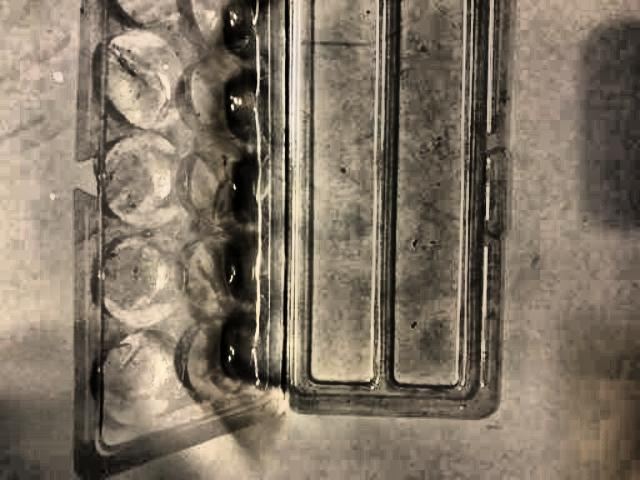Plastic: (30, 0, 502, 475)
